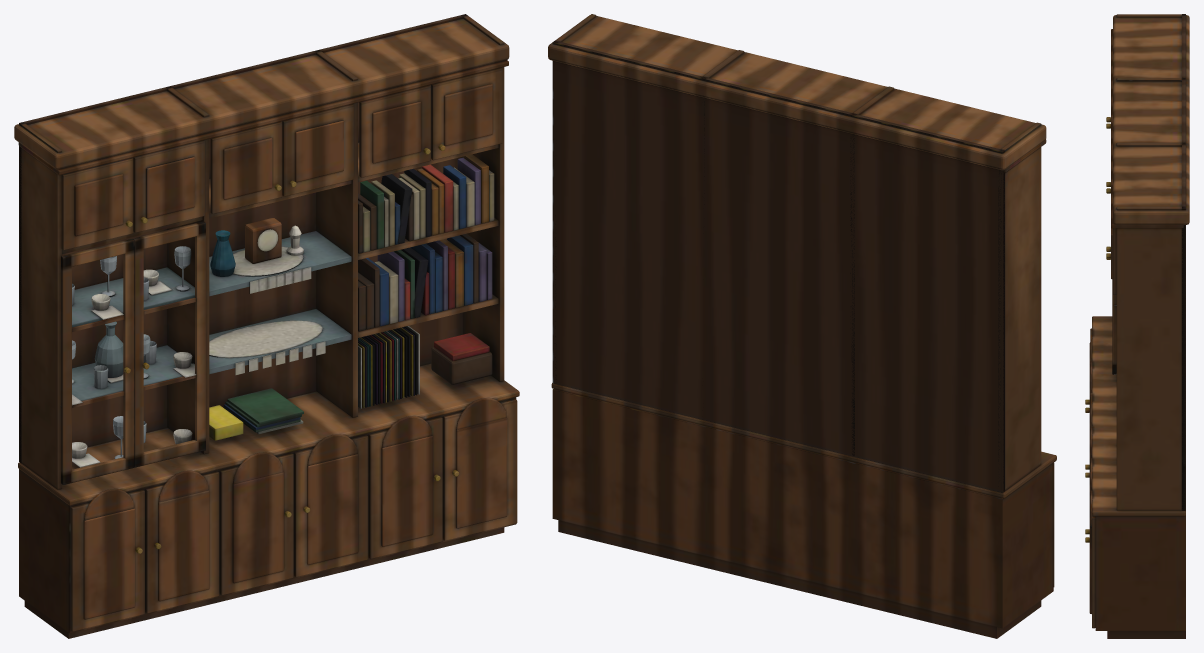
File: wz_schrankwand.glb
The picture shows the model from 3 angles, left to right: view 1: azimuth 30°, elevation 25°; view 2: azimuth 150°, elevation 25°; view 3: azimuth 270°, elevation 25°; orthographic projection. The views are drawn at different scales.
Visible parts, largest first — view 1: wz_schrankwand; view 2: wz_schrankwand; view 3: wz_schrankwand.
Part boxes in pixels (x1,y1,x2,y2): wz_schrankwand: (14, 14, 519, 638); wz_schrankwand: (548, 14, 1056, 638); wz_schrankwand: (1085, 14, 1189, 638).
Bounding box in the file's own units: 2.44 × 2.49 × 0.544.
Materials: 1 (1 with a texture image).
